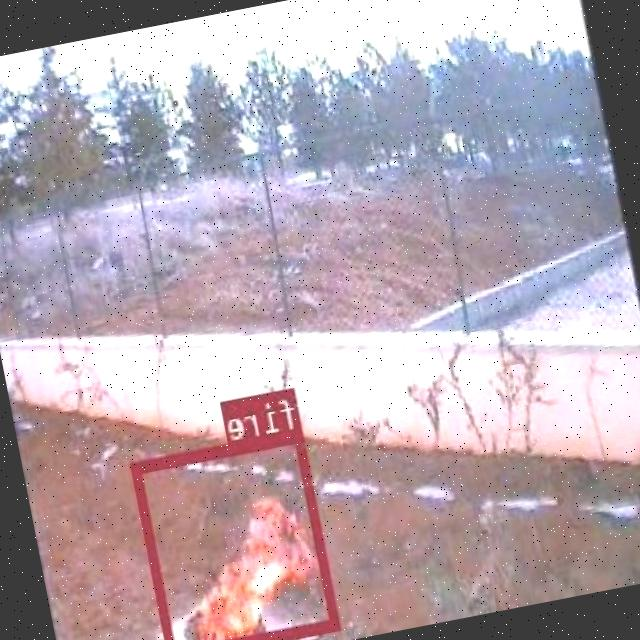fire: (131, 427, 343, 640)
